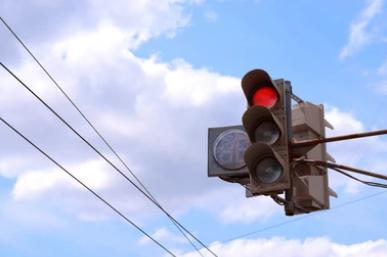red_light: (240, 69, 293, 196)
